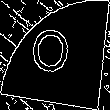O_S: (32, 26, 78, 84)
